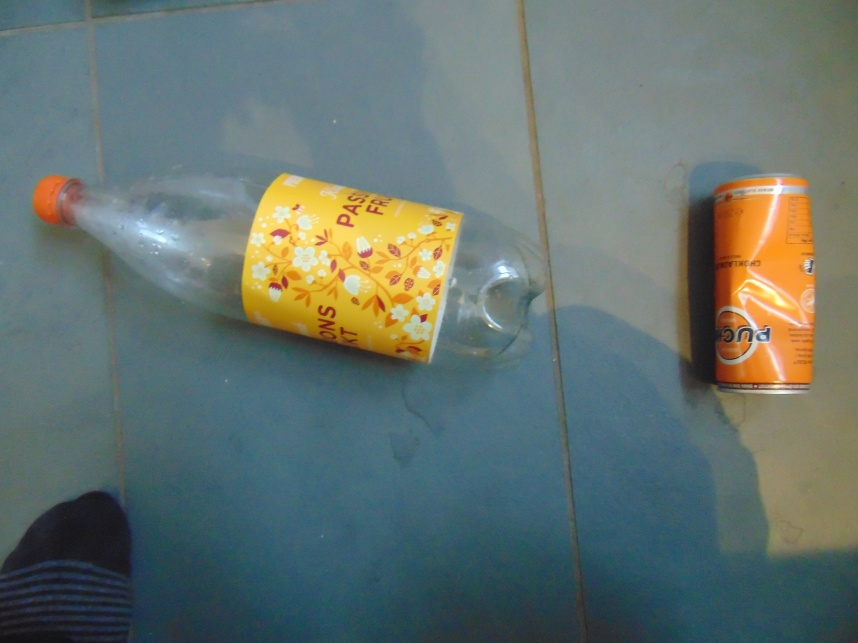metal_can: (712, 172, 818, 399)
plastic_bottle: (33, 164, 551, 370)
